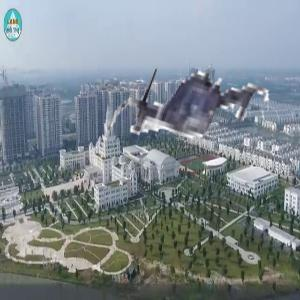drone: (115, 28, 275, 188)
